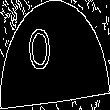O_S: (43, 28, 67, 82)
